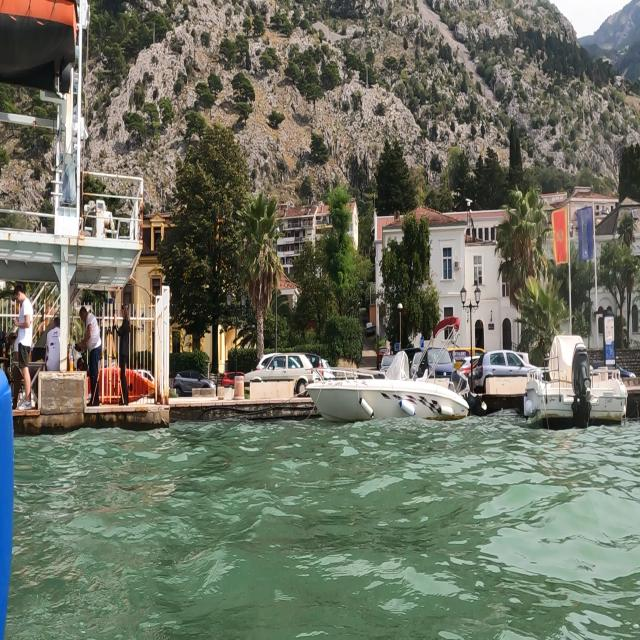boat: (521, 311, 638, 442), (304, 348, 471, 427)
